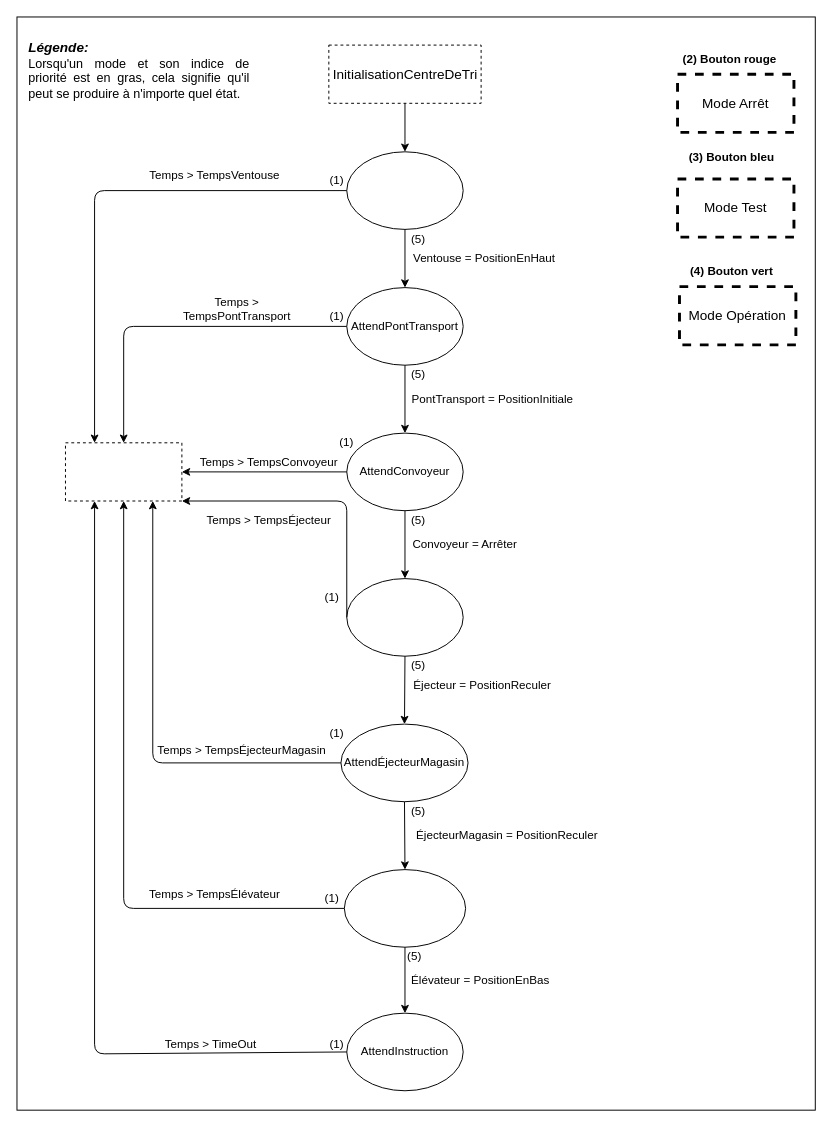
This 832x1127 diagram has some shape labels left out. The centre of each missing label's shape, as x and y in pixels:
AttendVentouse: (x=404, y=190)
AttendÉjecteur: (x=404, y=617)
AttendÉlévateur: (x=404, y=908)
Mode Erreur: (x=123, y=471)
